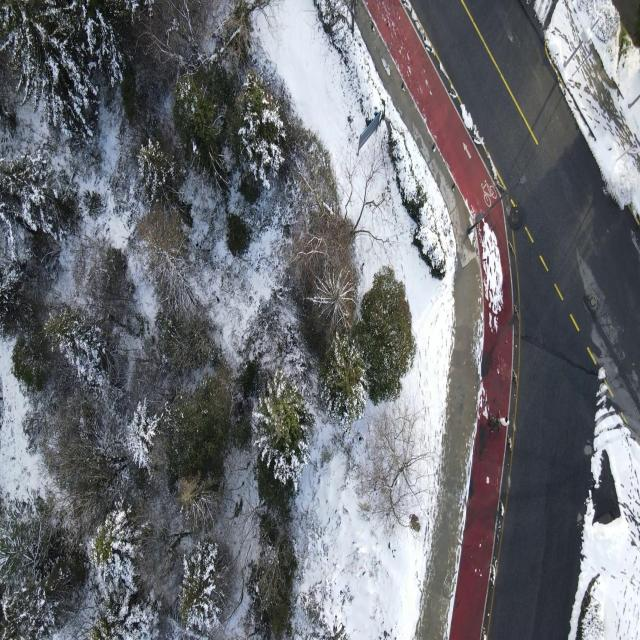p3rson: (498, 409, 509, 432), (489, 414, 500, 432)
